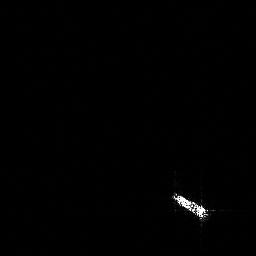ship: (172, 193, 207, 218)
